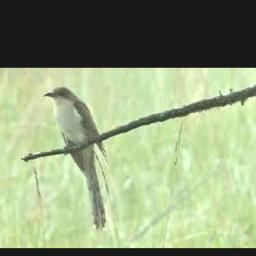Cuckoo: (45, 87, 110, 231)
